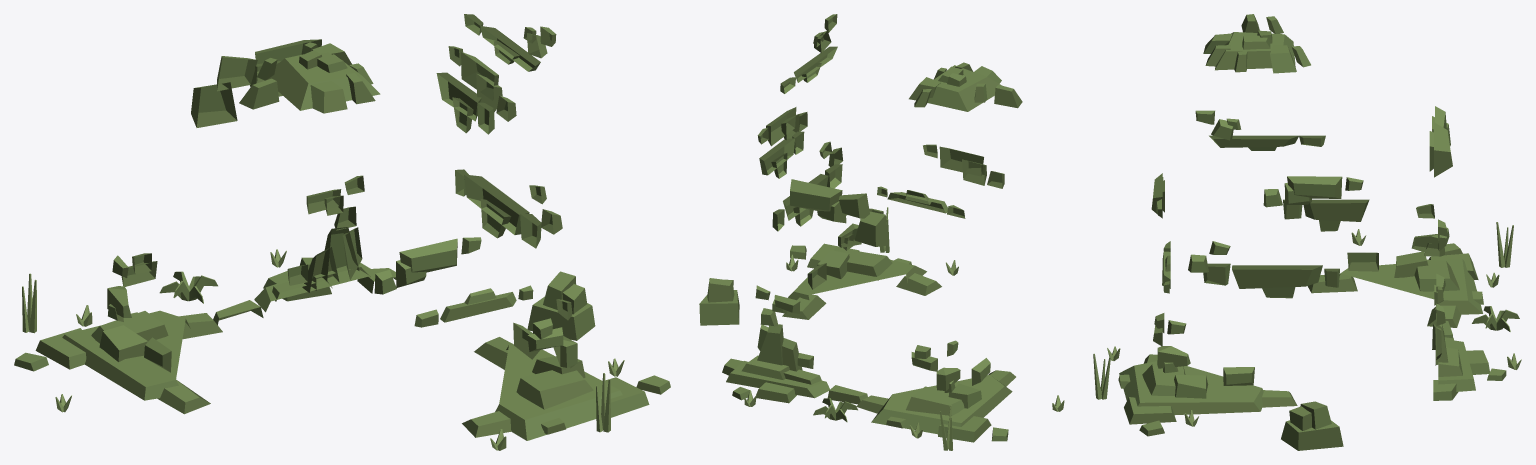
File: SA_Bld_Office_Growth_01.gltf
3 views of the same model, side by side, from view 1: azimuth 30°, elevation 25°; view 2: azimuth 150°, elevation 25°; view 3: azimuth 270°, elevation 25° (orthographic). The views are drawn at different scales.
Visible parts, largest first — view 1: SA_Bld_Office_Growth_01; view 2: SA_Bld_Office_Growth_01; view 3: SA_Bld_Office_Growth_01.
Boxes of the visible parts, left/top/right/bottom form: SA_Bld_Office_Growth_01: left=14, top=14, right=670, bottom=450; SA_Bld_Office_Growth_01: left=699, top=14, right=1064, bottom=450; SA_Bld_Office_Growth_01: left=1093, top=14, right=1521, bottom=450.
Bounding box in the file's own units: 23.47 × 16.28 × 21.08.
1 material, 1 textured.
